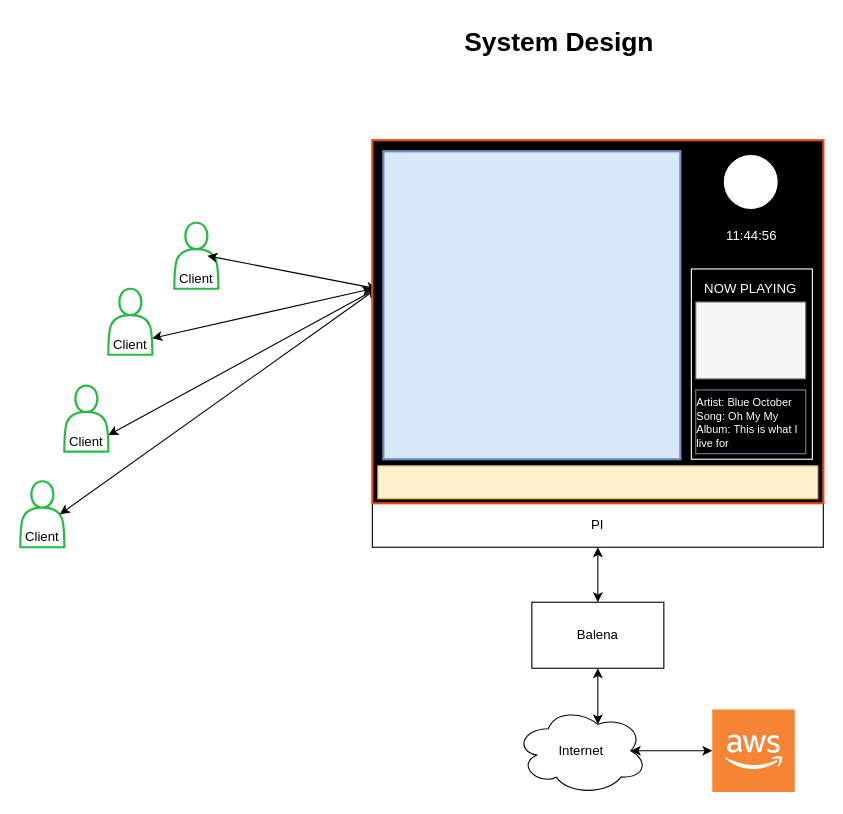
The diagram is 843 pixels wide and 814 high, and some of its shapes have lost their labels. The box of each missing label's shape, as (x1, y1, x2, y2) in pixels:
AdDisplay: (382, 150, 681, 460)
AlbumImage: (695, 301, 806, 379)
Logo: (722, 153, 778, 210)
Scrollbar: (377, 465, 818, 499)
